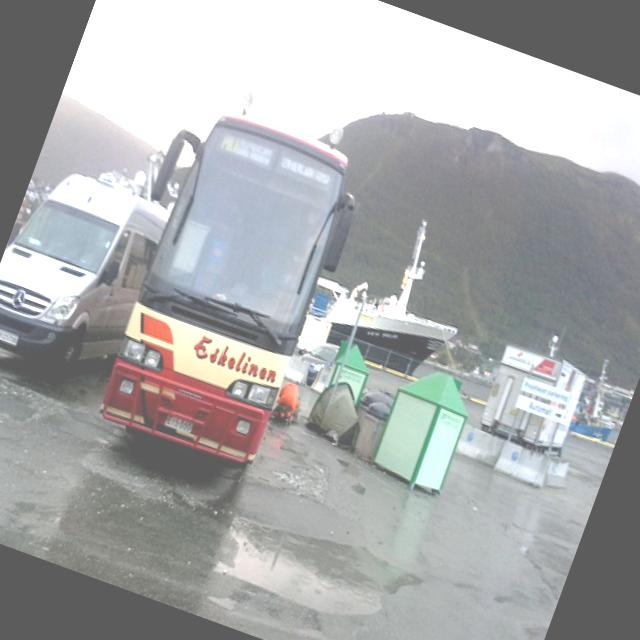Vehicle: (72, 69, 388, 478), (0, 156, 178, 400), (294, 316, 334, 362)
